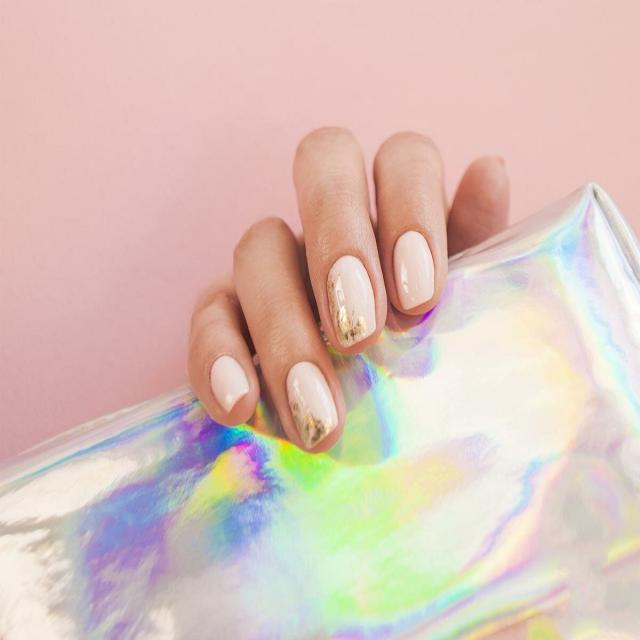Nail: (328, 255, 376, 347), (288, 362, 338, 448), (394, 230, 435, 309), (210, 355, 250, 412)
